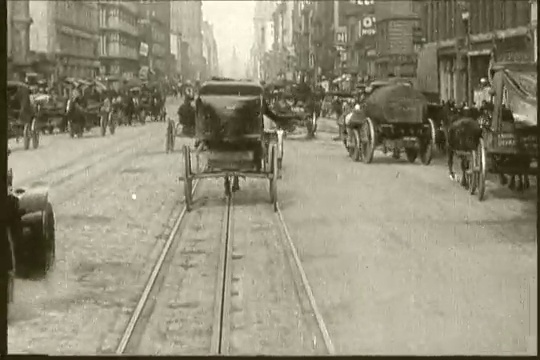carriage: (421, 57, 539, 199), (179, 77, 289, 224), (337, 75, 436, 171), (154, 84, 216, 156), (257, 76, 322, 144)
